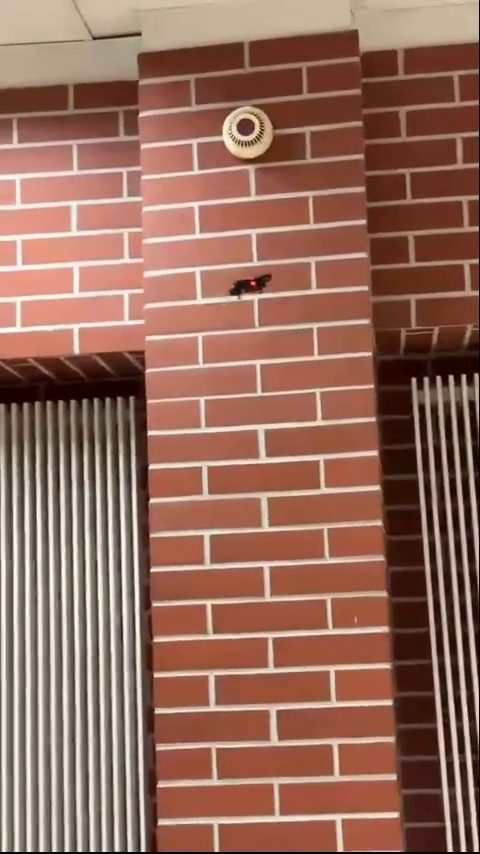drone: (227, 270, 276, 300)
